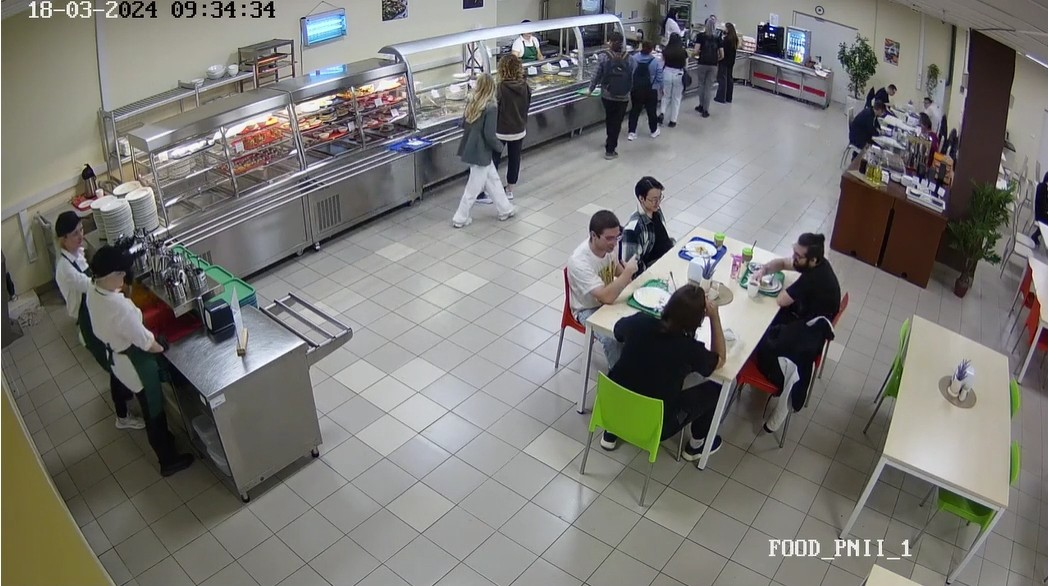Na_Kasse: (690, 8, 720, 122), (717, 20, 741, 104)
Personal: (76, 245, 191, 483), (46, 202, 147, 438), (508, 16, 539, 69), (464, 34, 488, 77), (660, 7, 681, 36)
Vybiraet: (453, 72, 499, 238), (493, 52, 535, 205), (589, 30, 633, 150), (631, 39, 668, 147), (658, 28, 685, 134)
Za_Stolom: (583, 294, 727, 475), (554, 207, 636, 370), (751, 218, 851, 328), (621, 172, 690, 254), (839, 101, 885, 163), (1023, 160, 1048, 243), (918, 117, 952, 152), (874, 80, 900, 104), (916, 91, 937, 110)
